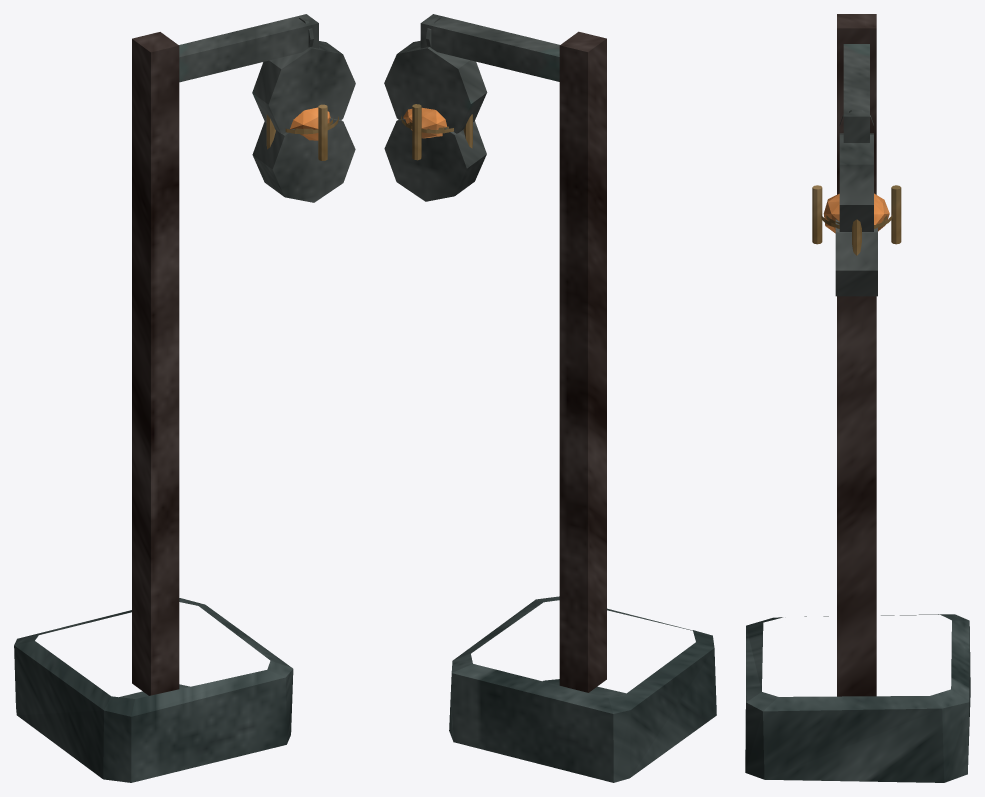
File: 0712_lantern_post_12.glb
The picture shows the model from 3 angles, left to right: view 1: azimuth 30°, elevation 25°; view 2: azimuth 150°, elevation 25°; view 3: azimuth 270°, elevation 25°; orthographic projection. The views are drawn at different scales.
Parts seen in each view (by area): view 1: wood_dark, stone_dark, iron, brass, amber; view 2: wood_dark, stone_dark, iron, brass, amber; view 3: stone_dark, wood_dark, iron, brass, amber.
Part boxes in pixels (x1,y1,x2,y2): wood_dark: (132, 32, 179, 695); stone_dark: (14, 598, 293, 782); iron: (179, 14, 355, 202); brass: (266, 104, 338, 160); amber: (290, 107, 330, 140); wood_dark: (559, 31, 606, 692); stone_dark: (449, 596, 716, 782); iron: (384, 14, 559, 201); brass: (401, 104, 472, 160); amber: (403, 107, 447, 138); stone_dark: (745, 614, 970, 782); wood_dark: (837, 14, 876, 696); iron: (835, 44, 877, 296); brass: (812, 185, 901, 255); amber: (823, 193, 889, 233).
Bounding box in the file's own units: 1.31 × 3.02 × 0.8569.
Materials: 5 (5 with a texture image).
